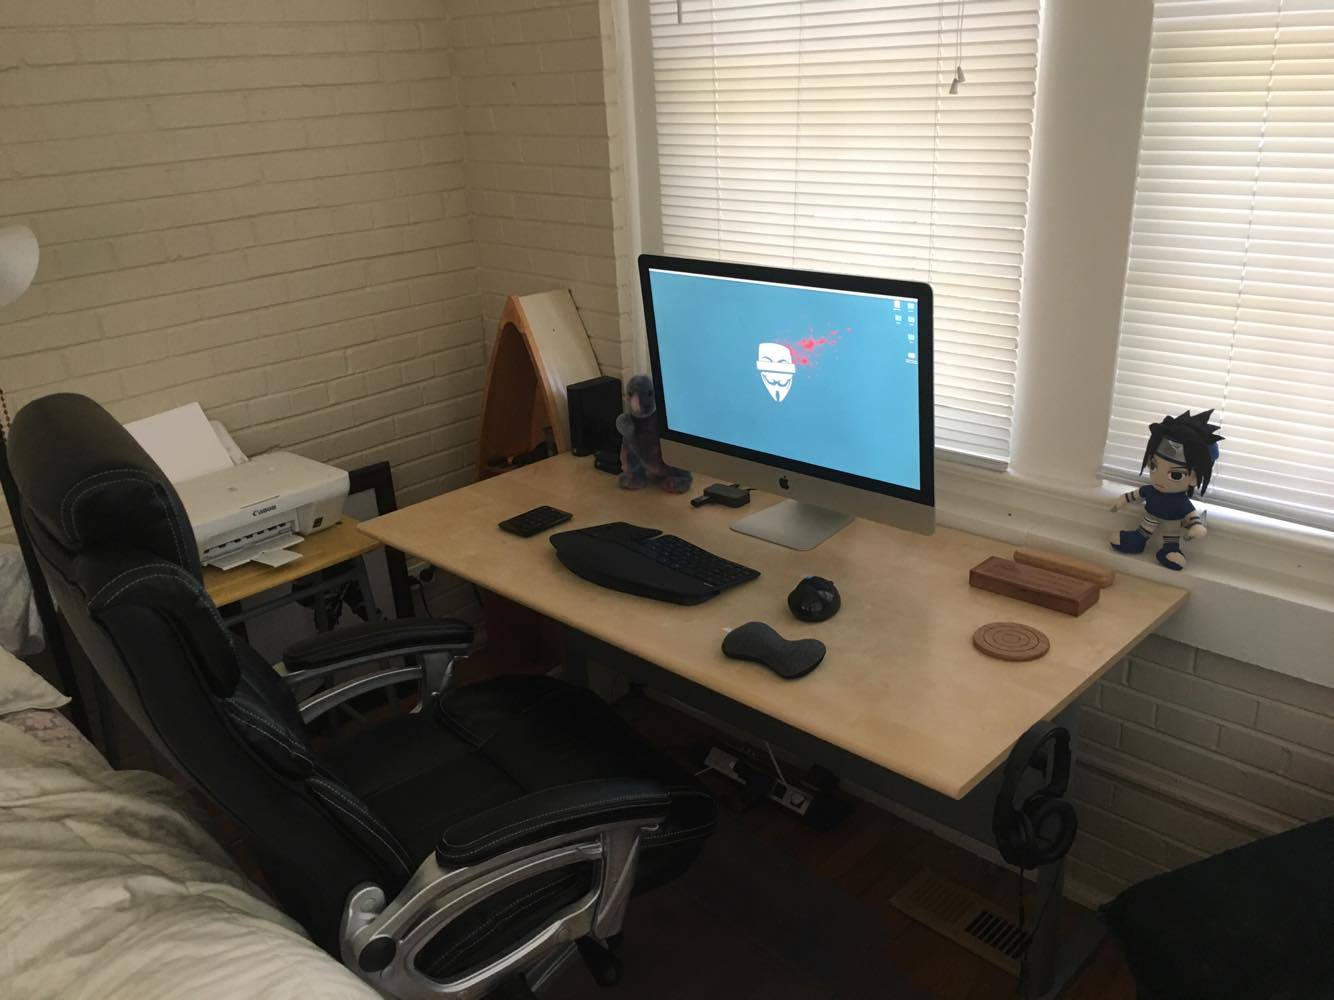Chair (Gaming): (1, 391, 678, 1000)
Decoration (Generic): (980, 526, 1105, 614)
Decoration (Miniature): (1109, 403, 1204, 569), (607, 364, 672, 499)
Desk (Generic): (372, 405, 1198, 807)
Drink Coaster: (974, 616, 1051, 678)
External Numpad: (497, 499, 571, 539)
Headphones: (984, 724, 1082, 868)
Keyboard (Ergonomic): (544, 524, 767, 610)
Monitor (iMac): (643, 261, 933, 548)
Mouse (Ergonomic): (781, 567, 856, 627)
Power Strip: (700, 739, 836, 820)
Printer: (100, 402, 353, 581)
USB Hub: (695, 475, 755, 512)
